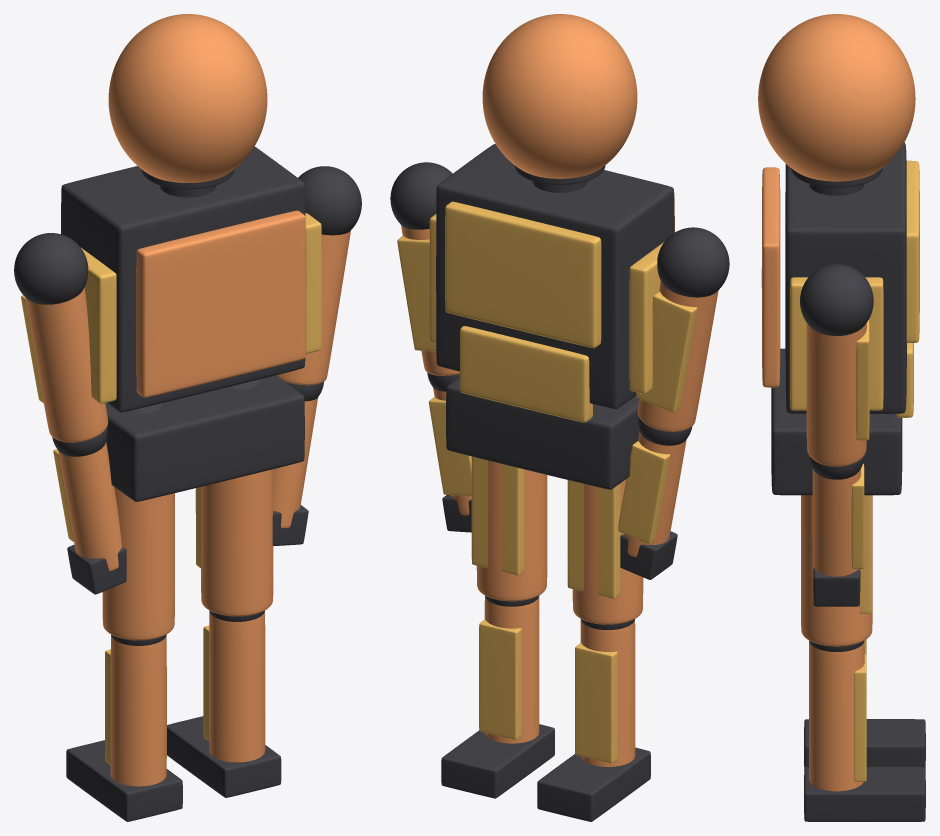
Rendered from Dummy_Mannequin_Orange_Hier_Hi.fbx.
3 views of the same model, side by side, from view 1: azimuth 30°, elevation 25°; view 2: azimuth 150°, elevation 25°; view 3: azimuth 270°, elevation 25° (orthographic). The views are drawn at different scales.
Visible parts, largest first — view 1: Panel_Back, HeadMesh, ChestPlate, PelvisMesh, UpperLegMesh_R, UpperLegMesh_L, LowerLegMesh_L, LowerLegMesh_R, UpperArmMesh_L, LowerArmMesh_L, FootMesh_L, FootMesh_R (+11 smaller); view 2: ChestPlate, HeadMesh, Panel_Chest, PelvisMesh, Panel_Abs, UpperLegMesh_R, FootMesh_R, FootMesh_L, ShinPanel_L, ShinPanel_R, ThighPanel_L, ThighPanel_R (+17 smaller); view 3: HeadMesh, ChestPlate, UpperArmMesh_R, PelvisMesh, LowerLegMesh_R, FootMesh_R, Shoulder_R, Panel_Back, UpperLegMesh_R, LowerArmMesh_R, Panel_Side_R, FootMesh_L (+10 smaller).
Boxes of the visible parts, <box> form: Panel_Back: <box>136,210,305,397</box>; HeadMesh: <box>108,14,267,182</box>; ChestPlate: <box>61,146,305,412</box>; PelvisMesh: <box>105,375,304,501</box>; UpperLegMesh_R: <box>201,469,273,616</box>; UpperLegMesh_L: <box>102,487,174,640</box>; LowerLegMesh_L: <box>110,635,166,786</box>; LowerLegMesh_R: <box>209,611,265,762</box>; UpperArmMesh_L: <box>25,287,108,442</box>; LowerArmMesh_L: <box>58,442,121,571</box>; FootMesh_L: <box>66,740,182,821</box>; FootMesh_R: <box>167,716,281,797</box>; ChestPlate: <box>436,144,674,408</box>; HeadMesh: <box>482,14,637,178</box>; Panel_Chest: <box>445,201,601,348</box>; PelvisMesh: <box>446,377,639,489</box>; Panel_Abs: <box>460,326,592,422</box>; UpperLegMesh_R: <box>476,460,547,601</box>; FootMesh_R: <box>441,724,554,798</box>; FootMesh_L: <box>537,747,650,821</box>; ShinPanel_L: <box>575,643,617,763</box>; ShinPanel_R: <box>479,619,521,739</box>; ThighPanel_L: <box>567,480,620,598</box>; ThighPanel_R: <box>471,456,524,575</box>; HeadMesh: <box>758,14,915,181</box>; ChestPlate: <box>785,142,906,413</box>; UpperArmMesh_R: <box>806,323,866,466</box>; PelvisMesh: <box>771,348,902,495</box>; LowerLegMesh_R: <box>809,642,864,791</box>; FootMesh_R: <box>804,766,925,821</box>; Shoulder_R: <box>800,264,873,335</box>; Panel_Back: <box>761,167,780,387</box>; UpperLegMesh_R: <box>801,495,872,646</box>; LowerArmMesh_R: <box>812,469,860,577</box>; Panel_Side_R: <box>790,277,883,410</box>; FootMesh_L: <box>804,719,925,768</box>.
Size of the model in its own units: 0.8241 by 1.8 by 0.3578.
